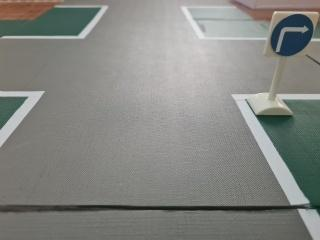right: (266, 11, 320, 60)
